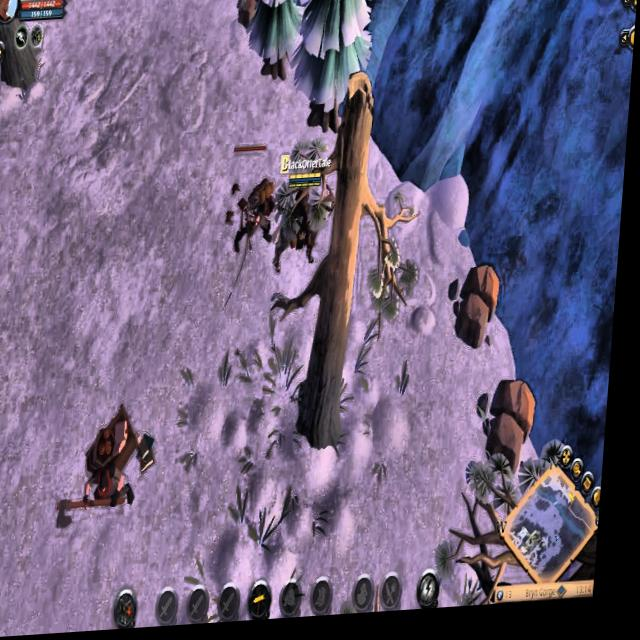limestone: (484, 375, 543, 480), (457, 268, 507, 356), (237, 0, 263, 27)
